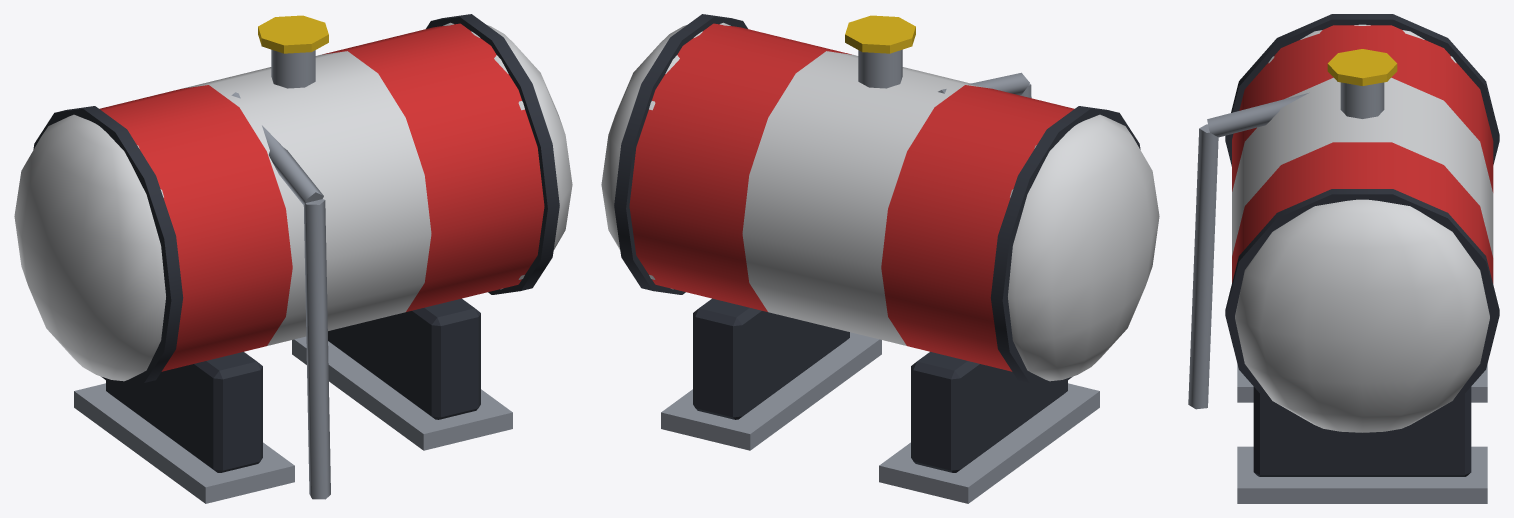
Rendered from fueltank.glb.
3 views of the same model, side by side, from view 1: azimuth 30°, elevation 25°; view 2: azimuth 150°, elevation 25°; view 3: azimuth 270°, elevation 25° (orthographic). The views are drawn at different scales.
Visible parts, largest first — view 1: Body; view 2: Body; view 3: Body.
Boxes of the visible parts, box(x1,y1,x2,y2) form: Body: box(14, 14, 572, 503); Body: box(601, 14, 1159, 503); Body: box(1188, 14, 1499, 503).
Bounding box in the file's own units: 2.5 × 1.87 × 1.43.
